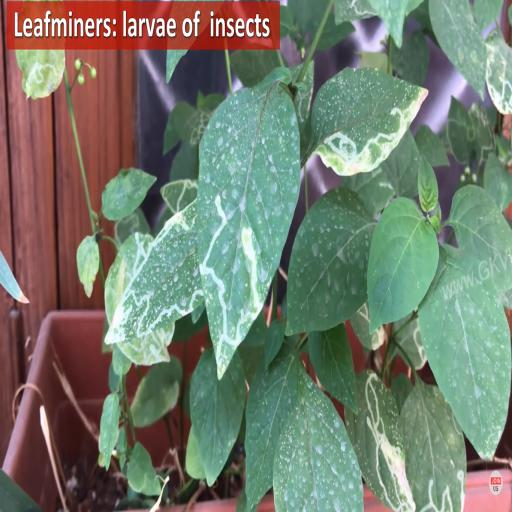Healthy: (366, 197, 439, 336)
Leaf_Miner: (196, 82, 301, 382), (102, 198, 203, 346), (313, 66, 430, 178), (344, 367, 418, 512), (398, 381, 467, 512), (446, 91, 498, 172), (16, 50, 66, 104), (176, 92, 226, 145), (484, 38, 512, 118), (351, 302, 386, 350), (160, 176, 198, 214), (410, 307, 428, 371), (332, 0, 378, 23)
